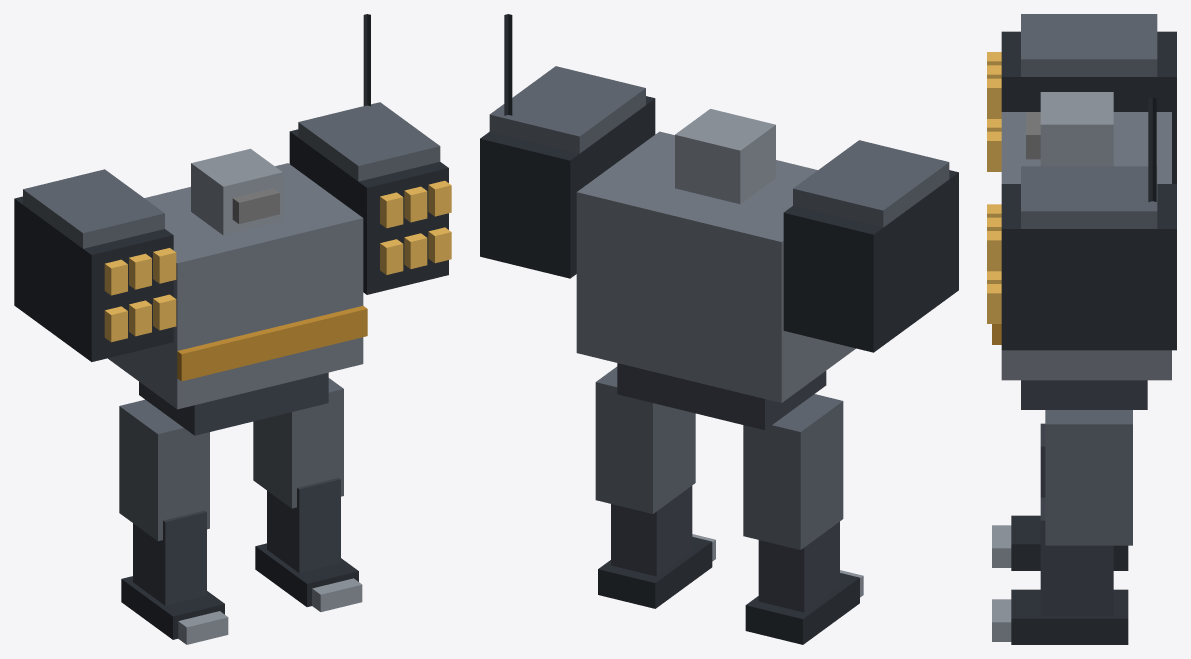
Rendered from javelin.obj.
3 views of the same model, side by side, from view 1: azimuth 30°, elevation 25°; view 2: azimuth 150°, elevation 25°; view 3: azimuth 270°, elevation 25° (orthographic). The views are drawn at different scales.
Visible parts, largest first — view 1: javelin; view 2: javelin; view 3: javelin.
Boxes of the visible parts, x1,y1,x2,y2 form: javelin: (14,14,451,644); javelin: (480,14,958,644); javelin: (987,14,1176,644).
Bounding box in the file's own units: 1.92 × 2.65 × 0.78.
